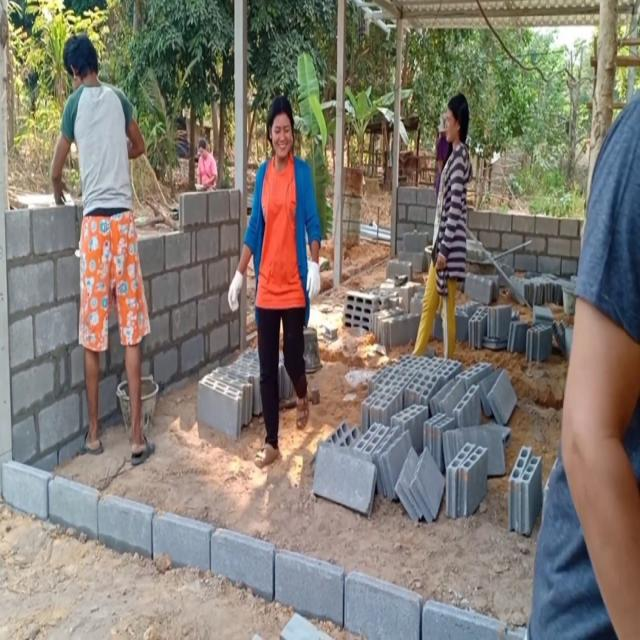gloves: (227, 270, 245, 316), (304, 256, 322, 302)
no_boots: (128, 418, 157, 468), (82, 419, 107, 458), (250, 438, 278, 470), (292, 386, 310, 431)
no_gloves: (46, 167, 76, 210), (431, 245, 445, 278)
no_hardhat: (263, 94, 301, 160), (61, 31, 100, 93), (444, 92, 474, 149), (198, 139, 207, 159)
no_vest: (51, 72, 148, 230), (243, 140, 322, 322), (432, 148, 471, 296), (196, 152, 217, 191)
person: (529, 78, 640, 640), (48, 32, 160, 472), (226, 89, 324, 473), (412, 93, 471, 361), (195, 135, 218, 191)
